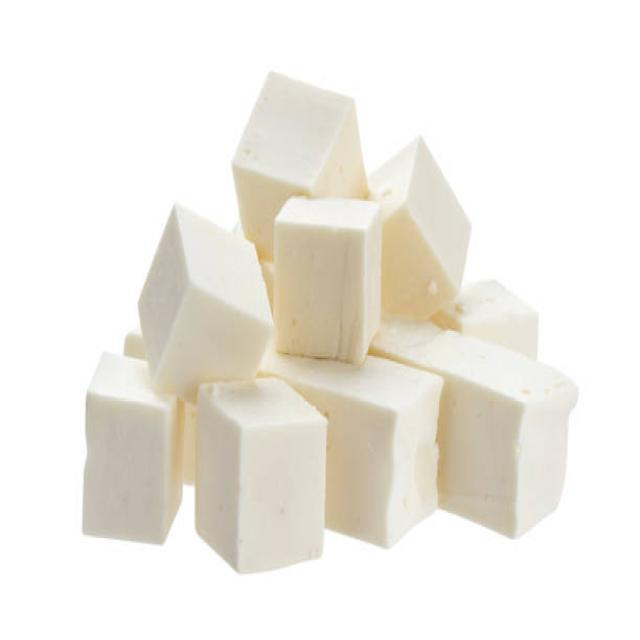Tofu Block: (194, 377, 331, 578), (138, 200, 271, 396), (441, 359, 576, 545), (79, 352, 184, 547), (275, 195, 384, 365)
